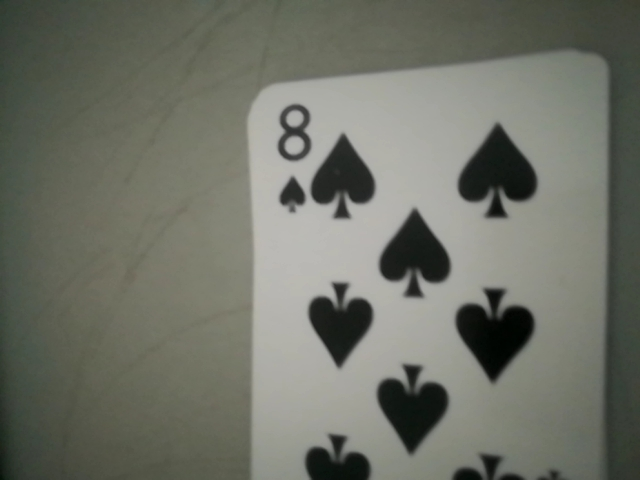ht 8: (258, 90, 329, 226)
